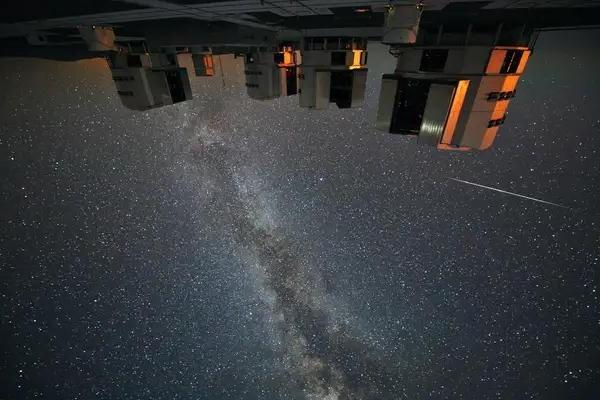meteorite: (436, 169, 583, 211)
